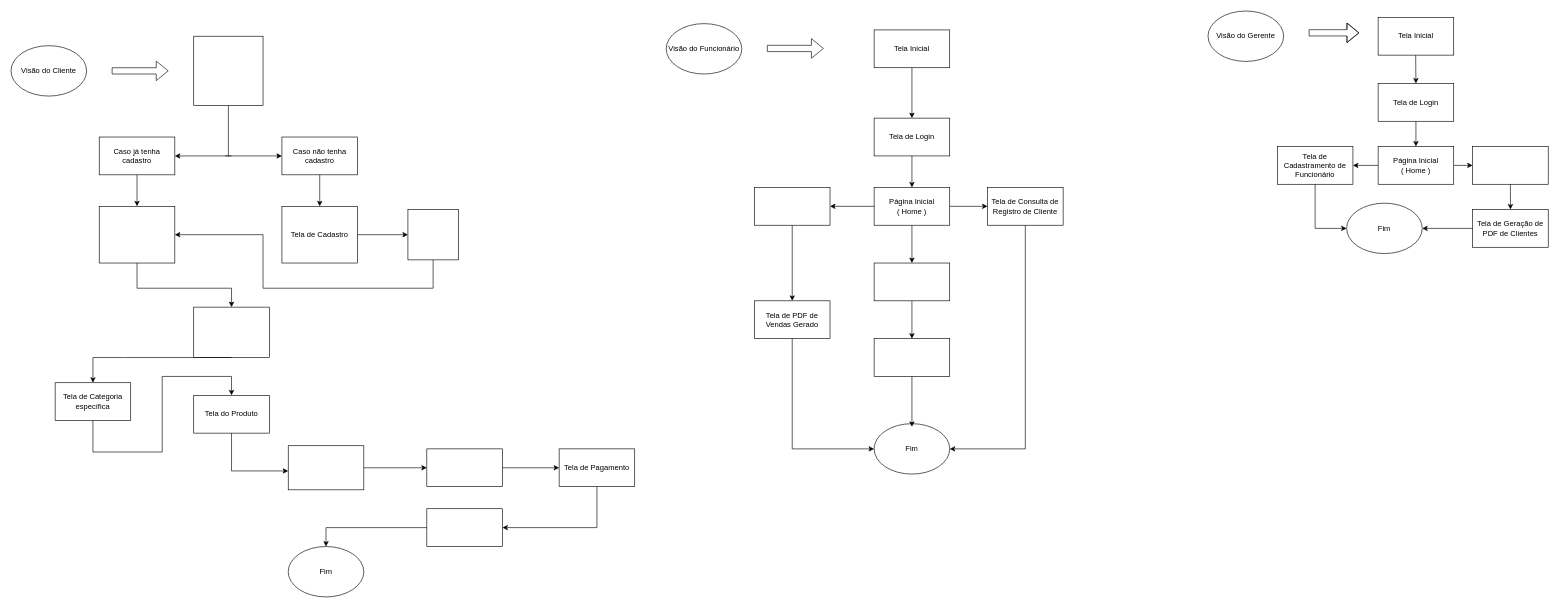
Image size: 1559x608. Some labels were removed from this diagram. Here are the shapes that lost their labels. From the top down, the box of each, then its label:
(193, 36, 263, 106): Tela inicial ( Login Page )
(1472, 146, 1548, 184): Tela de Solicitação de Relatório de Cliente
(754, 187, 830, 225): Tela de Solicitação de Relatório de Venda
(99, 206, 175, 263): Home ( Página inicial )
(407, 209, 458, 260): Tela de Identificação gerada
(873, 262, 950, 301): Tela de Cadastro de Produto
(193, 306, 269, 358): Menu de Categorias
(873, 338, 950, 376): Tela de Renovar Categorias
(288, 445, 364, 490): Tela do Carrinho
(426, 448, 502, 487): Tela de Finalizar compra
(426, 508, 502, 547): Tela de Comprovante de Pagamento
